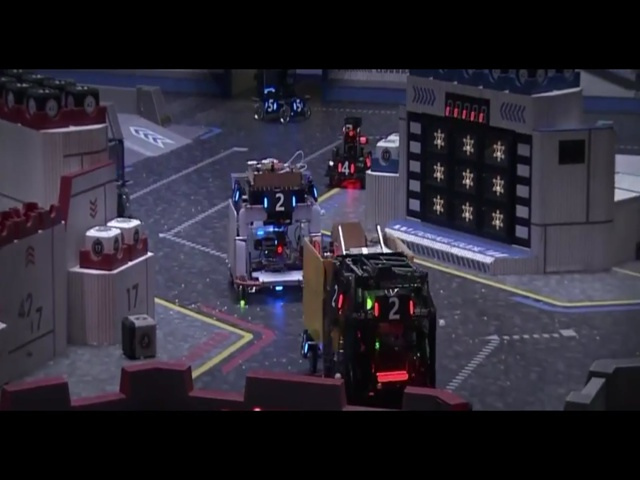plate: (368, 294, 417, 319), (326, 279, 349, 315), (260, 192, 299, 213), (293, 329, 312, 359), (263, 90, 280, 119), (333, 156, 354, 179), (227, 181, 242, 208), (289, 96, 306, 116), (361, 150, 374, 169)
